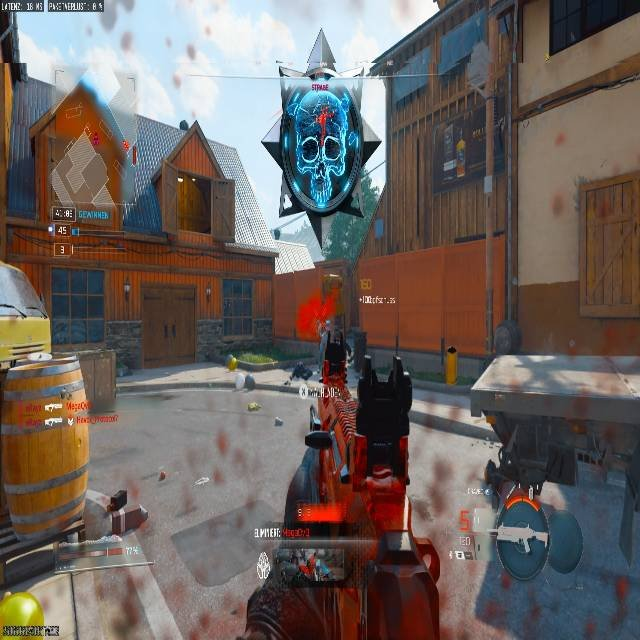head: (307, 64, 335, 87)
player: (273, 65, 369, 221)
